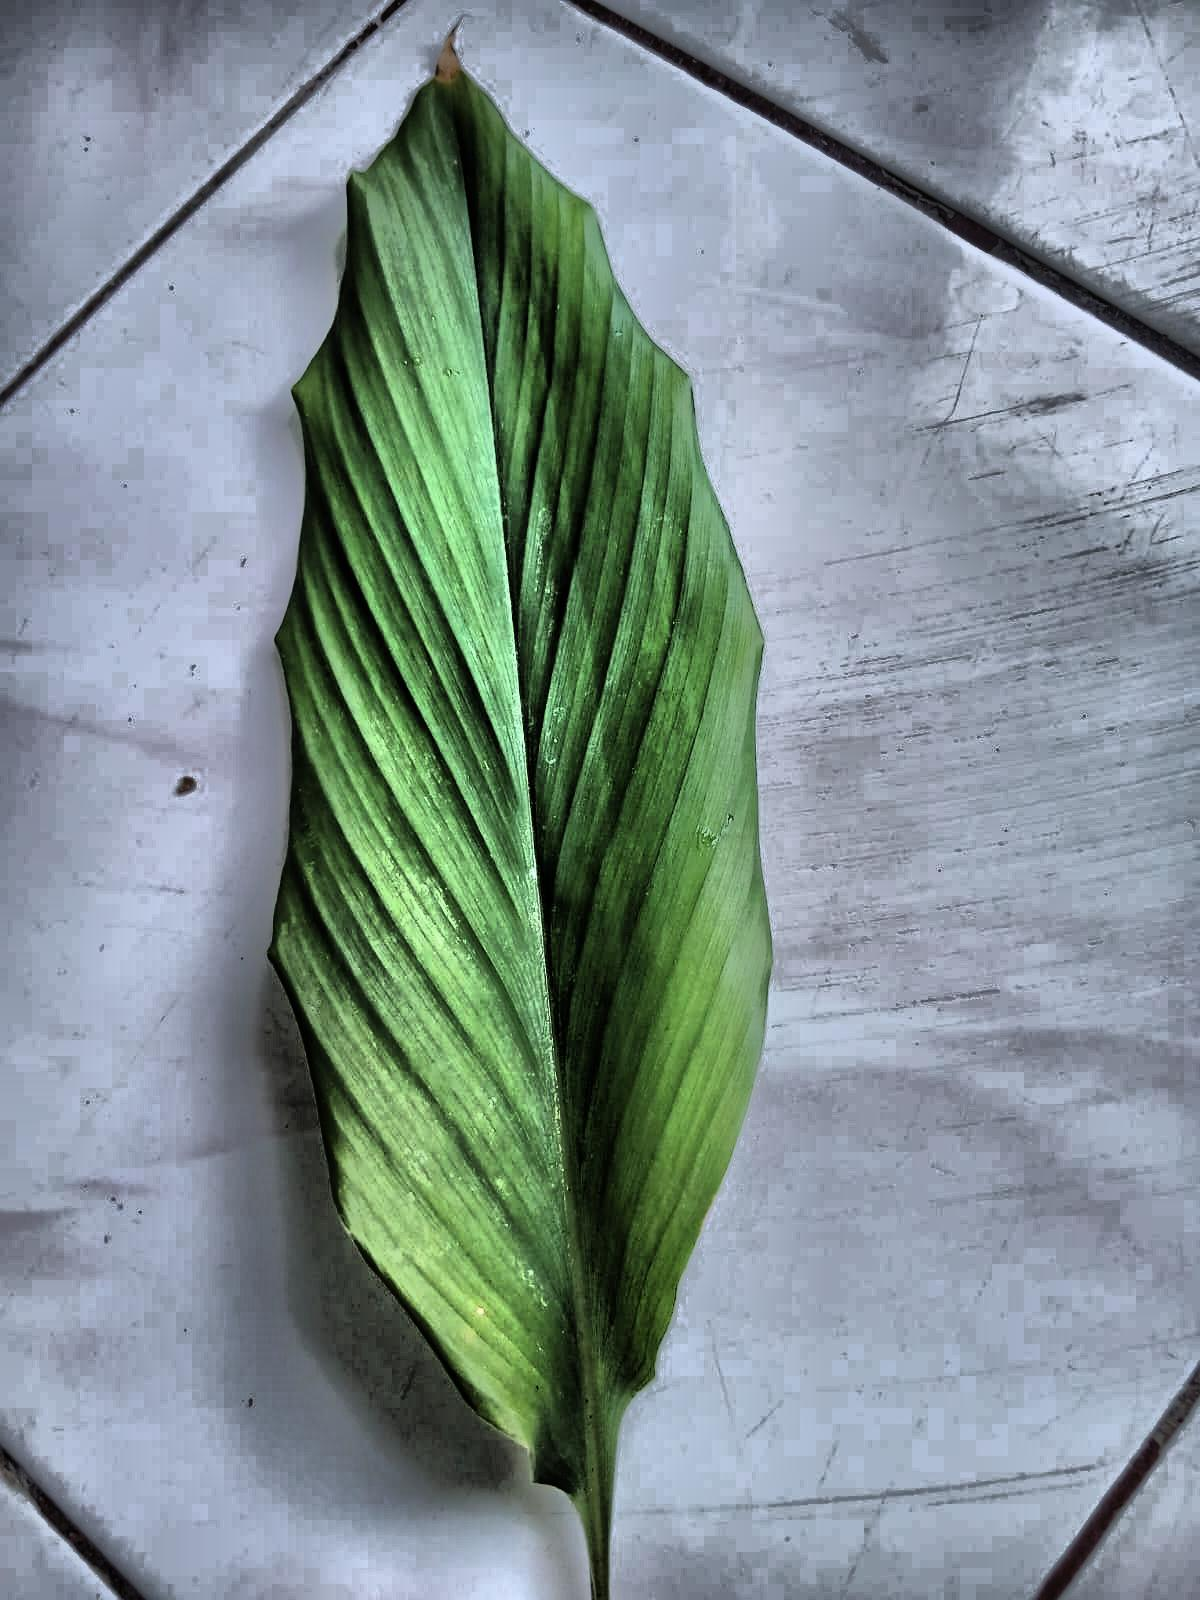daun kunyit: (270, 49, 771, 1599)
